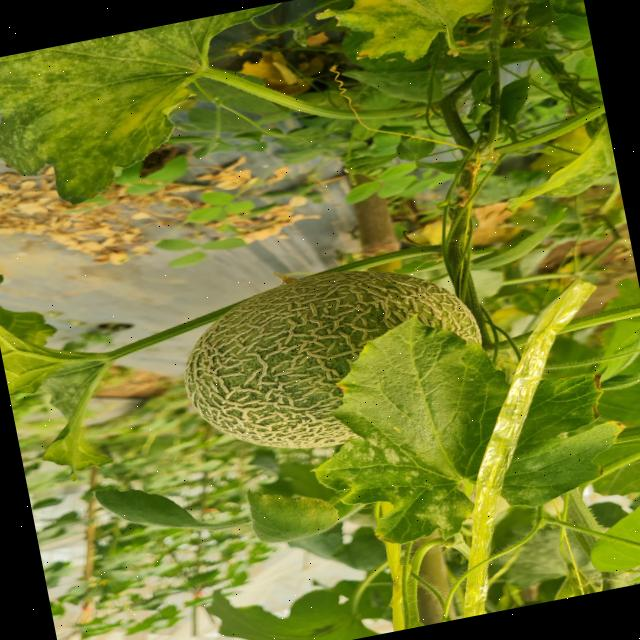melon: (183, 270, 479, 448)
